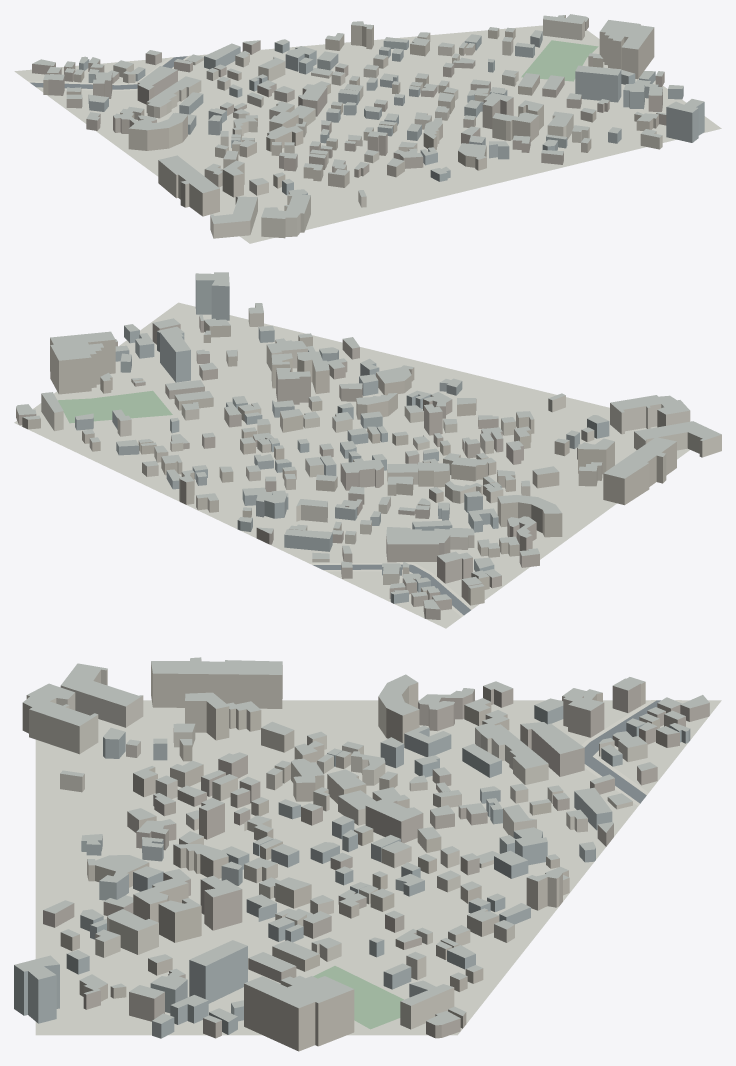
3 renders of one model, top to bottom at view 1: azimuth 30°, elevation 25°; view 2: azimuth 150°, elevation 25°; view 3: azimuth 270°, elevation 25°, orthographic. The views are drawn at different scales.
Parts seen in each view (by area): view 1: city; view 2: city; view 3: city.
Boxes of the visible parts, <box> form: city: <box>14,14,721,243</box>; city: <box>14,272,721,628</box>; city: <box>14,657,721,1051</box>.
Bounding box in the file's own units: 548 × 30.7 × 446.
